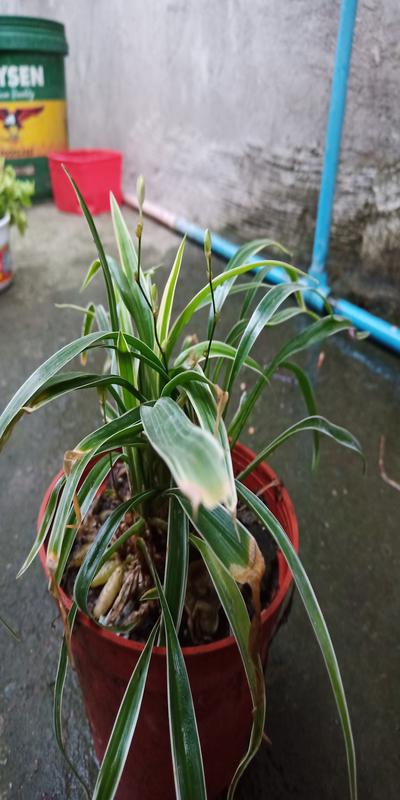Yellow and green leaf: (37, 257, 355, 571)
